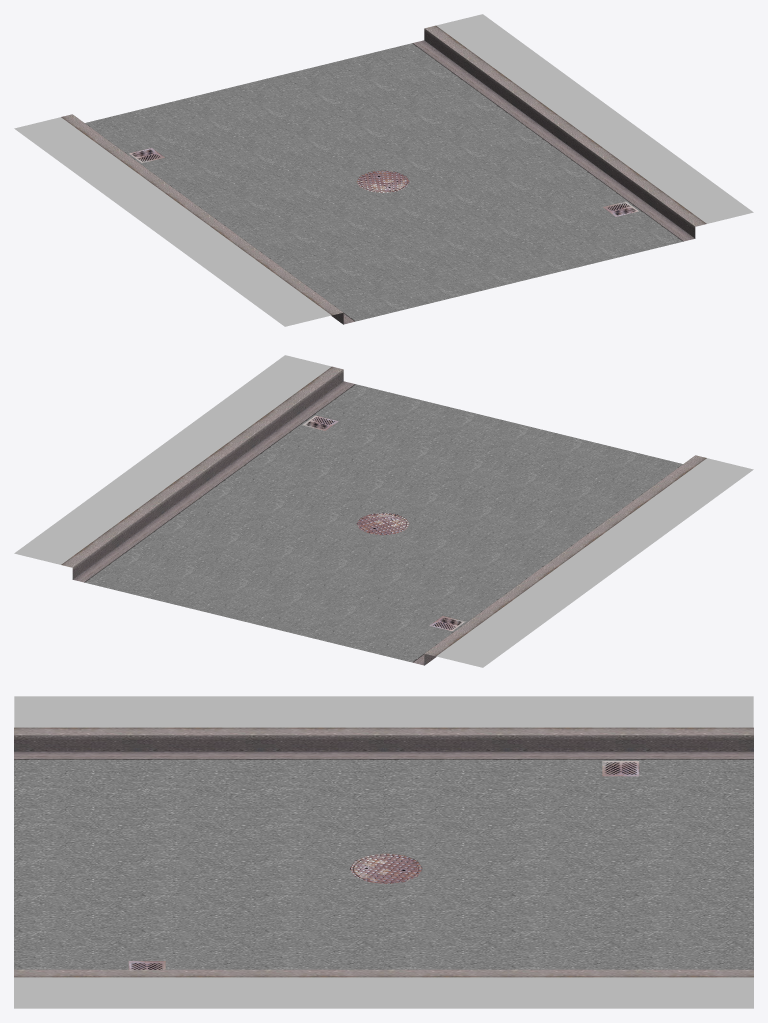
The model's file is roada8.dae.
3 renders of one model, top to bottom at view 1: azimuth 30°, elevation 25°; view 2: azimuth 150°, elevation 25°; view 3: azimuth 270°, elevation 25°, orthographic. The views are drawn at different scales.
Visible parts, largest first — view 1: S_Object_001, S_Object_001_7, S_Object_001_6, S_Object_001_5, S_Object_001_4, S_Object_001_3, S_Object_001_8, S_Object_001_1, S_Object_001_2; view 2: S_Object_001, S_Object_001_7, S_Object_001_6, S_Object_001_5, S_Object_001_4, S_Object_001_3, S_Object_001_8, S_Object_001_1, S_Object_001_2; view 3: S_Object_001, S_Object_001_7, S_Object_001_6, S_Object_001_5, S_Object_001_4, S_Object_001_3, S_Object_001_1, S_Object_001_2.
Part boxes in pixels (x1,y1,x2,y2): S_Object_001: [87, 44, 680, 320]; S_Object_001_7: [14, 14, 753, 326]; S_Object_001_6: [61, 25, 706, 315]; S_Object_001_5: [331, 28, 695, 324]; S_Object_001_4: [343, 40, 694, 324]; S_Object_001_3: [356, 170, 409, 192]; S_Object_001_8: [410, 43, 683, 241]; S_Object_001_1: [85, 122, 356, 321]; S_Object_001_2: [129, 147, 638, 216]; S_Object_001: [87, 385, 680, 661]; S_Object_001_7: [14, 355, 753, 667]; S_Object_001_6: [61, 366, 706, 656]; S_Object_001_5: [72, 369, 436, 665]; S_Object_001_4: [73, 381, 424, 665]; S_Object_001_3: [356, 512, 409, 535]; S_Object_001_8: [84, 384, 357, 582]; S_Object_001_1: [411, 463, 682, 662]; S_Object_001_2: [302, 415, 465, 630]; S_Object_001: [14, 761, 753, 969]; S_Object_001_7: [14, 696, 753, 1008]; S_Object_001_6: [14, 727, 753, 977]; S_Object_001_5: [14, 735, 753, 751]; S_Object_001_4: [14, 751, 753, 759]; S_Object_001_3: [350, 853, 422, 883]; S_Object_001_1: [14, 759, 753, 760]; S_Object_001_2: [128, 761, 639, 969].
Size of the model in its own units: 2 by 0.05 by 2.
